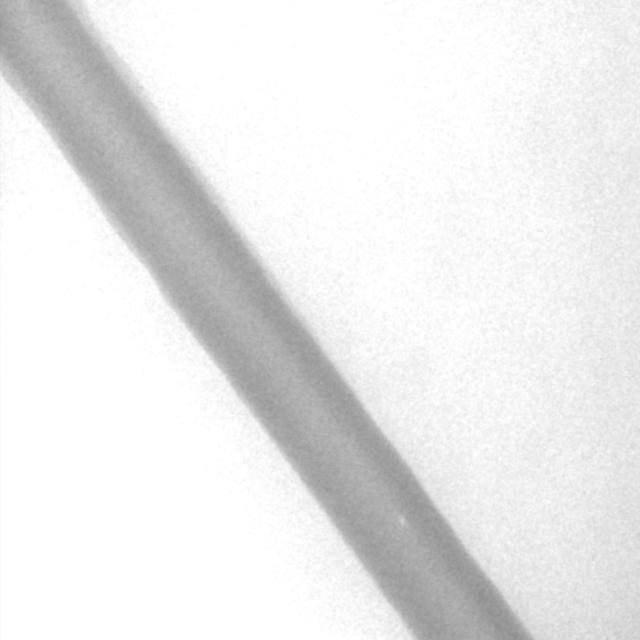air hole: (394, 510, 408, 528)
